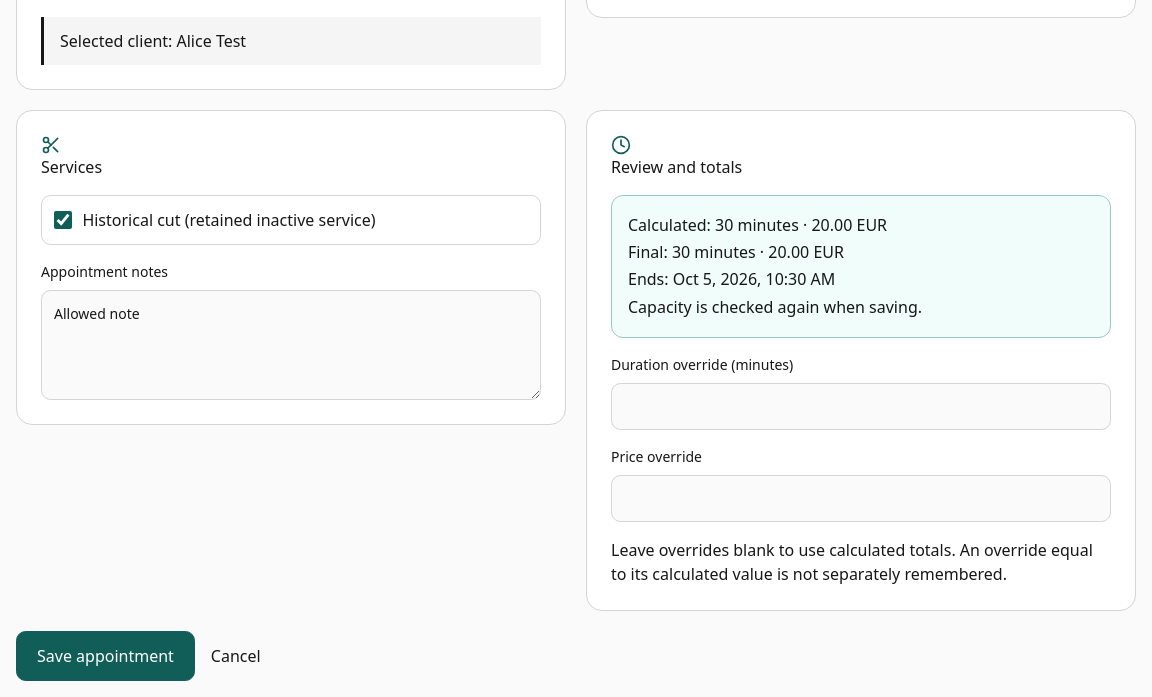
Scenario: edit retains historical inactive selection and sends PUT
This screenshot has width=1152, height=697.
(page scrolled)
Expected: the checkbox labelled "Historical cut (retained inactive service)" is checked, [54,211,72,229]
Expected: the element named "Appointment preview" is shown, [611,195,1111,338]
Click the button "Save appointment".
click(105, 656)  # box [16,631,195,681]
(page scrolled)
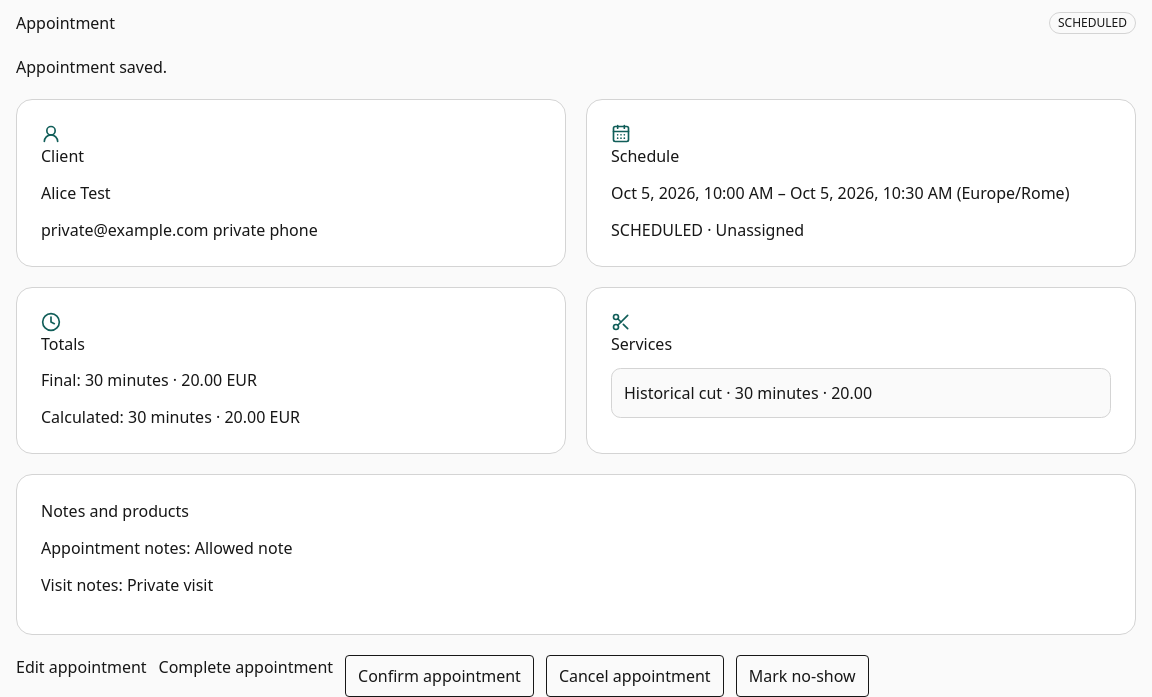
Now the text "Appointment saved." is shown, box [16,56,167,78]
